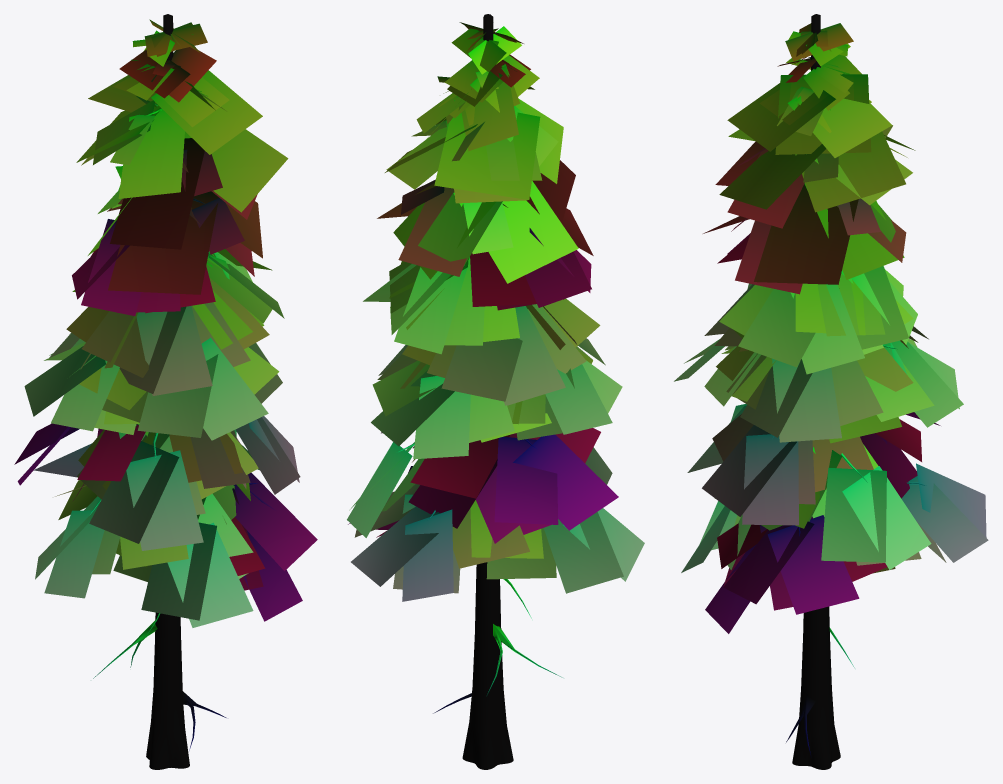
The model's file is M_Pine_4_2.fbx.
The picture shows the model from 3 angles, left to right: view 1: azimuth 30°, elevation 25°; view 2: azimuth 150°, elevation 25°; view 3: azimuth 270°, elevation 25°; orthographic projection.
Visible parts, largest first — view 1: Tree_2; view 2: Tree_2; view 3: Tree_2.
Part boxes in pixels (x1,y1,x2,y2): Tree_2: [14, 14, 317, 769]; Tree_2: [347, 14, 644, 769]; Tree_2: [674, 14, 988, 769].
Size of the model in its own units: 1129 by 3009 by 1154.
